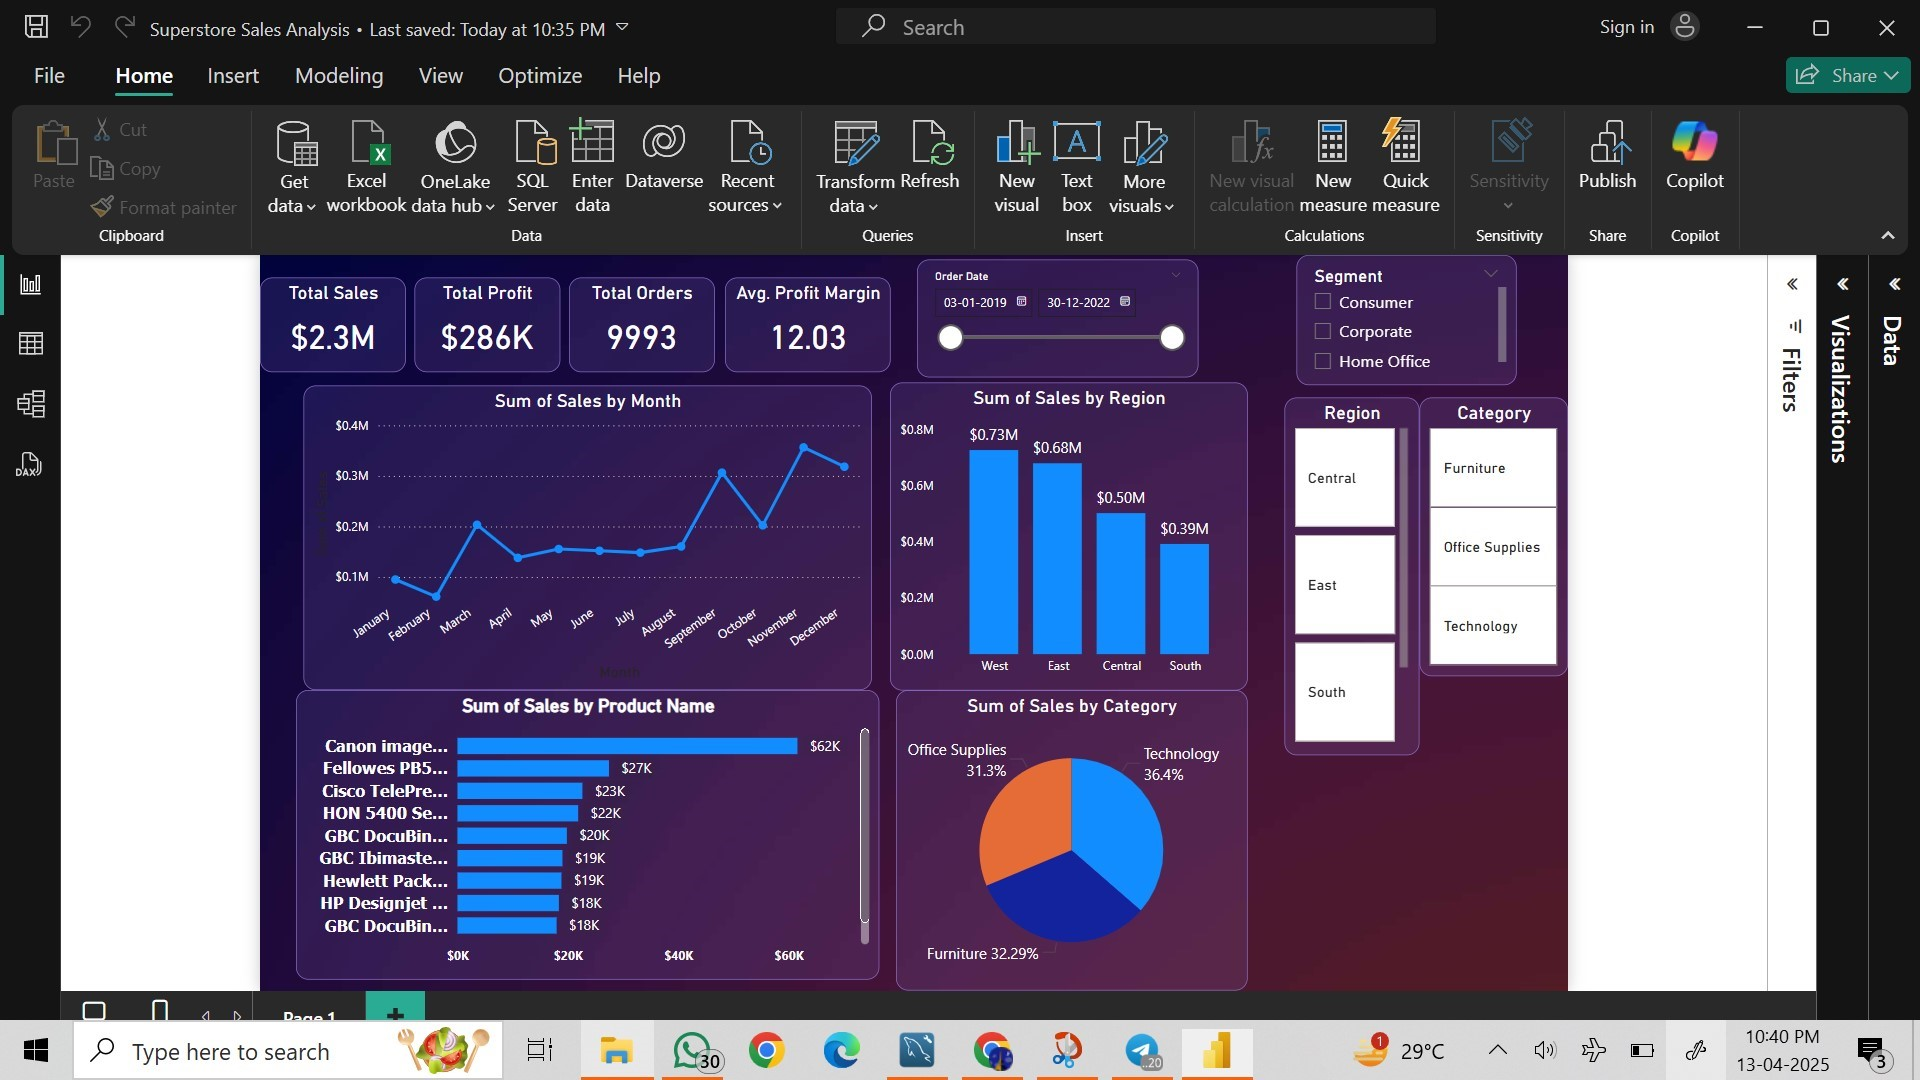

The dashboard page shown, as its layout file describes it:
{"tool":"powerbi","page":{"name":"Page 1","canvas":[1280,720],"ordinal":0},"visuals":[{"type":"card","title":"Total Sales","fields":{"Values":["Sum(cleaned superstore dataset. Sales )"]},"box":[0,22.1,142.9,92.9],"z":0},{"type":"card","title":"Total Profit","fields":{"Values":["Sum(cleaned superstore dataset.Profit)"]},"box":[151.4,22.7,142.3,92.4],"z":1000},{"type":"card","title":"Total Orders","fields":{"Values":["CountNonNull(cleaned superstore dataset.Product ID)"]},"box":[302.8,22.7,142.3,92.4],"z":2000},{"type":"card","title":"Avg. Profit Margin","fields":{"Values":["Avg(cleaned superstore dataset.Profit Margin %)"]},"box":[454.3,22.7,162,92.4],"z":3000},{"type":"lineChart","fields":{"Category":["cleaned superstore dataset.Order Date.Variation.Date Hierarchy.Month"],"Y":["Sum(cleaned superstore dataset. Sales )"]},"box":[42.4,127.2,555.7,298.3],"z":4000},{"type":"barChart","fields":{"Category":["cleaned superstore dataset.Product Name"],"Y":["Sum(cleaned superstore dataset. Sales )"]},"box":[34.8,425.5,570.9,283.2],"z":5000},{"type":"pieChart","fields":{"Category":["cleaned superstore dataset.Category"],"Y":["Sum(cleaned superstore dataset. Sales )"]},"box":[622.3,425.5,343.7,293.8],"z":6000},{"type":"columnChart","fields":{"Category":["cleaned superstore dataset.Region"],"Y":["Sum(cleaned superstore dataset. Sales )"]},"box":[616.3,124.2,349.8,301.3],"z":7000},{"type":"slicer","fields":{"Values":["cleaned superstore dataset.Category"]},"box":[991.8,386.1,198.4,198.4],"z":8000},{"type":"slicer","fields":{"Values":["cleaned superstore dataset.Region"]},"box":[991.8,172.6,165,204.4],"z":9000},{"type":"slicer","fields":{"Values":["cleaned superstore dataset.Order Date"]},"box":[654.1,10.6,243.8,115.1],"z":10000},{"type":"slicer","fields":{"Values":["cleaned superstore dataset.Segment"]},"box":[967.6,0,222.6,154.4],"z":11000}]}

Visuals, with their boxes on the page's 1280x720 design canvas (x1, y1, x2, y2). These are canvas units, not pixel positions in the 1920x1080 screenshot, which may show the page scaled, cropped or inside an application window:
"Total Sales" card: <bbox>0, 22, 143, 115</bbox>
"Total Profit" card: <bbox>151, 23, 294, 115</bbox>
"Total Orders" card: <bbox>303, 23, 445, 115</bbox>
"Avg. Profit Margin" card: <bbox>454, 23, 616, 115</bbox>
lineChart - cleaned superstore dataset.Order Date.Variation.Date Hierarchy.Month x Sum(cleaned superstore dataset. Sales ): <bbox>42, 127, 598, 426</bbox>
barChart - cleaned superstore dataset.Product Name x Sum(cleaned superstore dataset. Sales ): <bbox>35, 426, 606, 709</bbox>
pieChart - cleaned superstore dataset.Category x Sum(cleaned superstore dataset. Sales ): <bbox>622, 426, 966, 719</bbox>
columnChart - cleaned superstore dataset.Region x Sum(cleaned superstore dataset. Sales ): <bbox>616, 124, 966, 426</bbox>
slicer - cleaned superstore dataset.Category: <bbox>992, 386, 1190, 584</bbox>
slicer - cleaned superstore dataset.Region: <bbox>992, 173, 1157, 377</bbox>
slicer - cleaned superstore dataset.Order Date: <bbox>654, 11, 898, 126</bbox>
slicer - cleaned superstore dataset.Segment: <bbox>968, 0, 1190, 154</bbox>
